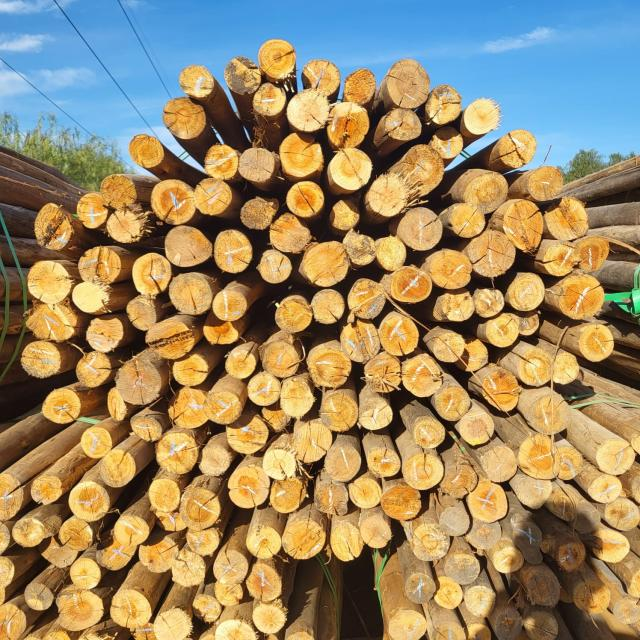package: (20, 38, 611, 562), (371, 421, 639, 640), (3, 475, 327, 640)
